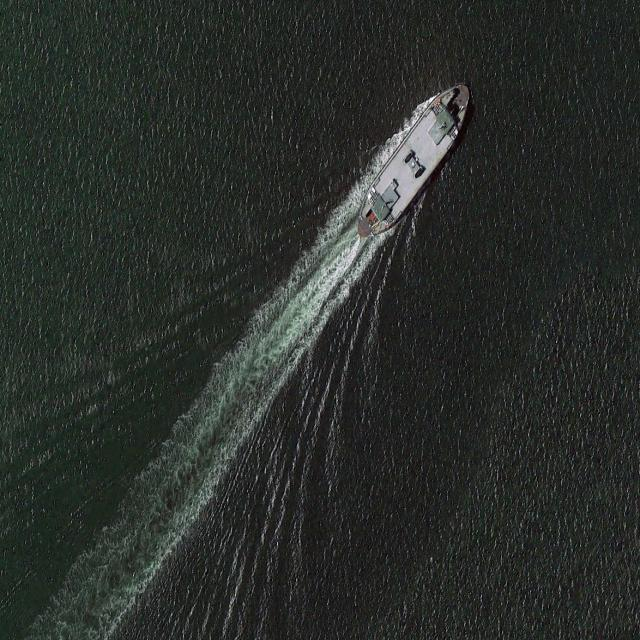RoRo: (347, 70, 481, 252)
